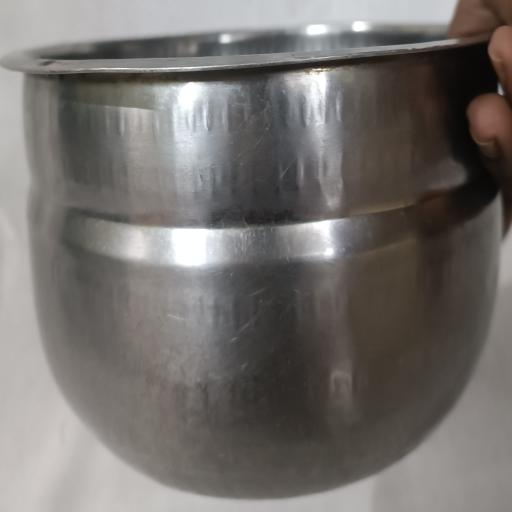vessel: (4, 27, 504, 498)
